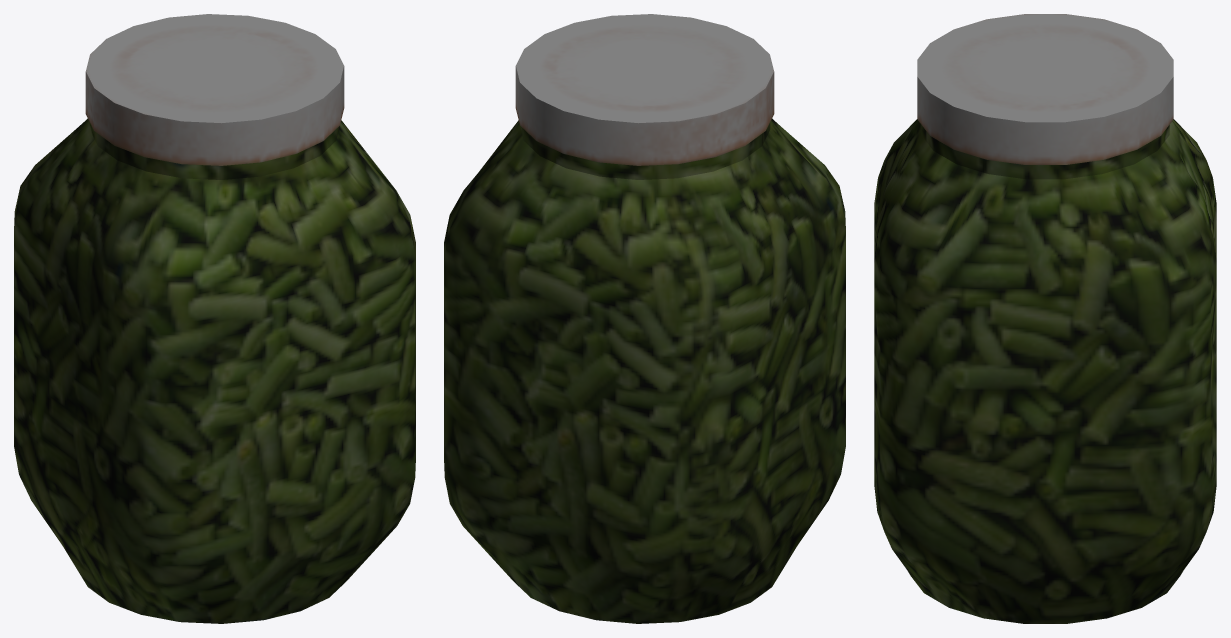
Rendered from GlassCan_C.fbx.
3 renders of one model, left to right at view 1: azimuth 30°, elevation 25°; view 2: azimuth 150°, elevation 25°; view 3: azimuth 270°, elevation 25°, orthographic.
Parts seen in each view (by area): view 1: GlassCan_C_LOD0; view 2: GlassCan_C_LOD0; view 3: GlassCan_C_LOD0.
Part boxes in pixels (x1,y1,x2,y2): GlassCan_C_LOD0: (14,14,415,623); GlassCan_C_LOD0: (444,14,845,623); GlassCan_C_LOD0: (874,14,1216,623).
Size of what is drawn, in the model's own units: 11.98 by 19.28 by 11.98.
